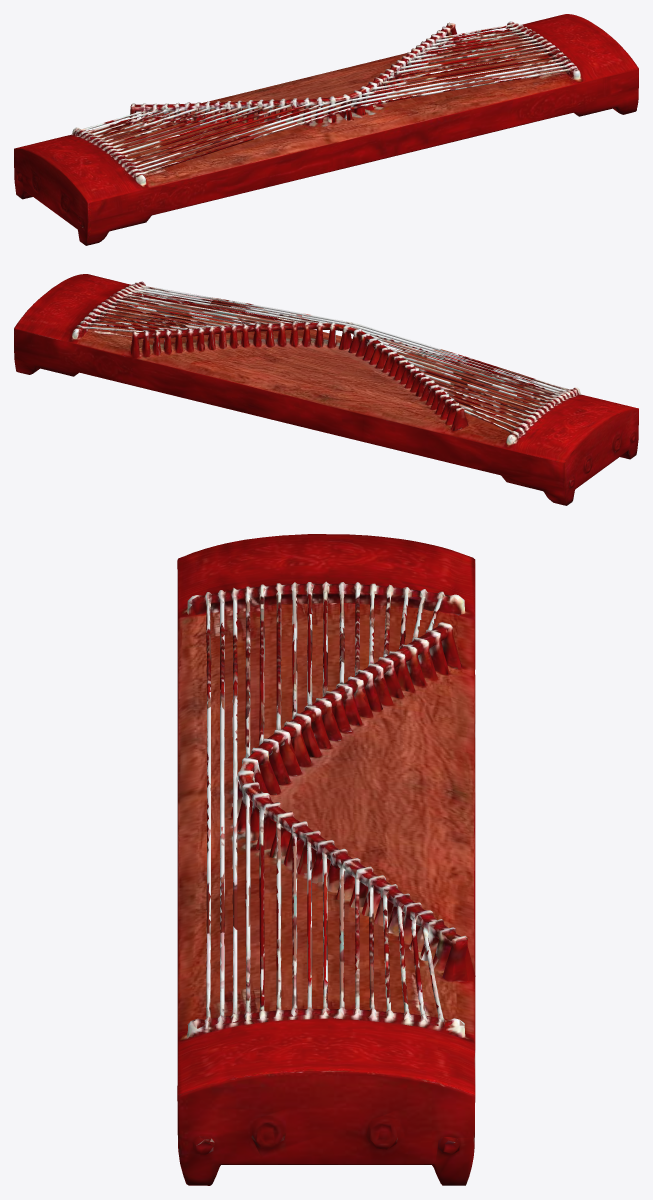
File: guzheng.glb
The picture shows the model from 3 angles, top to bottom: view 1: azimuth 30°, elevation 25°; view 2: azimuth 150°, elevation 25°; view 3: azimuth 270°, elevation 25°; orthographic projection. The views are drawn at different scales.
Parts seen in each view (by area): view 1: mesh; view 2: mesh; view 3: mesh.
Boxes of the visible parts, <box> form: mesh: <box>14,14,638,245</box>; mesh: <box>14,274,638,505</box>; mesh: <box>177,534,475,1185</box>.
Bounding box in the file's own units: 1 × 0.1265 × 0.2329.
1 material, 1 textured.
